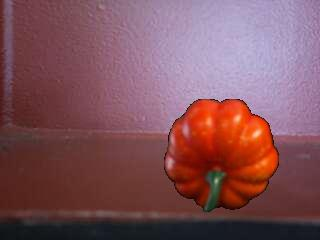Pumpkin: (163, 97, 280, 213)
